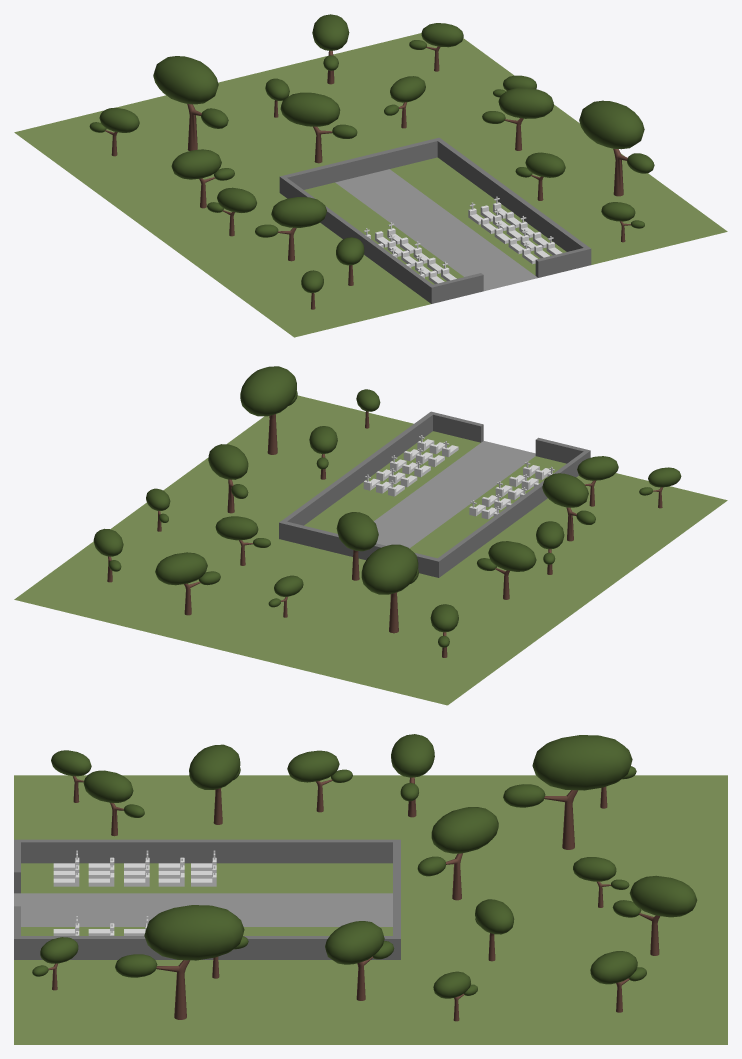
The model's file is Scenario Cementerio.fbx.
The picture shows the model from 3 angles, top to bottom: view 1: azimuth 30°, elevation 25°; view 2: azimuth 150°, elevation 25°; view 3: azimuth 270°, elevation 25°; orthographic projection. The views are drawn at different scales.
Parts seen in each view (by area): view 1: Plane.001, Cylinder.035, Cylinder.045, Cylinder.046, Cylinder.032, Cylinder.034, Cylinder.033, Cylinder.041, Cylinder.043, Cylinder.039, Cylinder.047, Cylinder.038 (+3 smaller); view 2: Plane.001, Cylinder.045, Cylinder.035, Cylinder.041, Cylinder.032, Cylinder.033, Cylinder.034, Cylinder.046, Cylinder.044, Cylinder.037, Cylinder.043, Cylinder.038 (+5 smaller); view 3: Plane.001, Cylinder.045, Cylinder.035, Cylinder.046, Cylinder.041, Cylinder.034, Cylinder.032, Cylinder.033, Cylinder.038, Cylinder.037, Cylinder.043, Cylinder.044 (+4 smaller).
Boxes of the visible parts, x1,y1,x2,y2 form: Plane.001: (14, 33, 727, 337); Cylinder.035: (579, 100, 654, 196); Cylinder.045: (153, 56, 228, 150); Cylinder.046: (280, 92, 357, 163); Cylinder.032: (255, 197, 326, 261); Cylinder.034: (482, 88, 553, 150); Cylinder.033: (171, 149, 234, 208); Cylinder.041: (312, 14, 349, 84); Cylinder.043: (409, 23, 463, 71); Cylinder.039: (515, 152, 565, 200); Cylinder.047: (89, 107, 139, 156); Cylinder.038: (207, 187, 256, 236); Plane.001: (14, 395, 727, 705); Cylinder.045: (361, 544, 418, 633); Cylinder.035: (240, 366, 297, 454); Cylinder.041: (155, 552, 220, 615); Cylinder.032: (542, 473, 595, 541); Cylinder.033: (477, 541, 536, 599); Cylinder.034: (208, 444, 248, 513); Cylinder.046: (336, 512, 378, 580); Cylinder.044: (215, 516, 270, 565); Cylinder.037: (577, 456, 618, 506); Cylinder.043: (93, 528, 123, 582); Cylinder.038: (536, 521, 564, 574); Plane.001: (14, 775, 727, 1044); Cylinder.045: (503, 735, 632, 849); Cylinder.035: (115, 905, 244, 1019); Cylinder.046: (417, 807, 498, 900); Cylinder.041: (612, 875, 697, 955); Cylinder.034: (325, 921, 394, 1000); Cylinder.032: (189, 744, 240, 824); Cylinder.033: (391, 734, 434, 817); Cylinder.038: (287, 750, 352, 812); Cylinder.037: (83, 770, 144, 836); Cylinder.043: (590, 951, 646, 1012); Cylinder.044: (475, 899, 514, 961).
Bounding box in the file's own units: 51.83 × 9.71 × 58.02.
